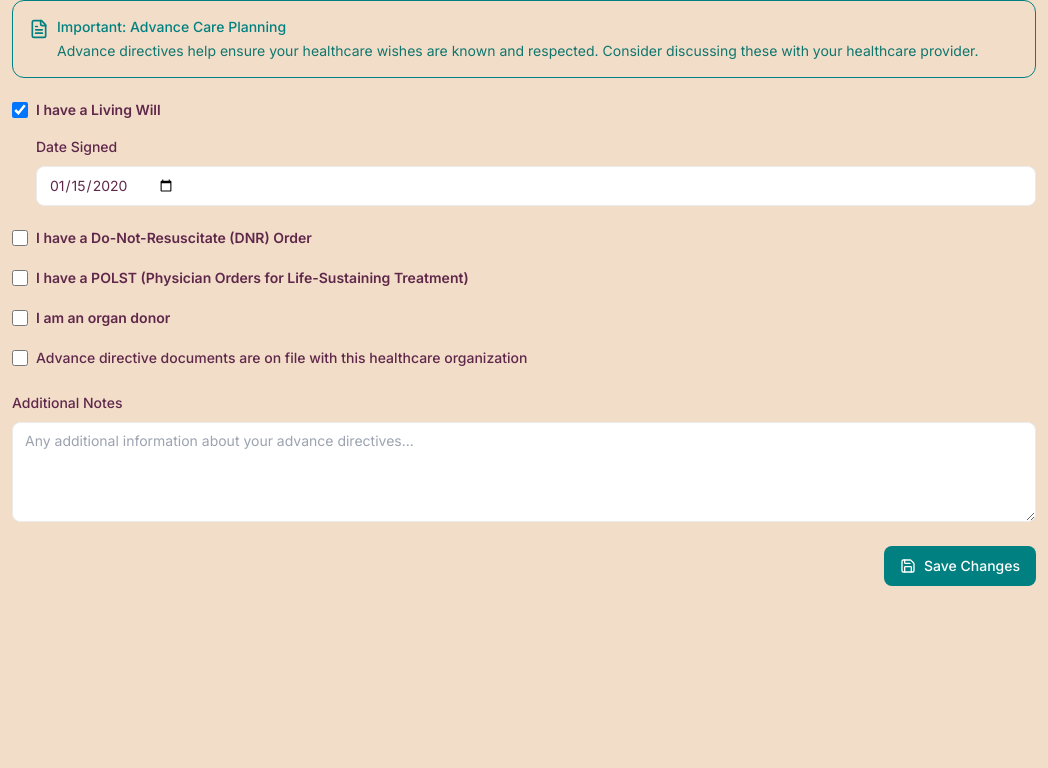
Test: AdvanceDirectivesForm › Living Will › should hide date field when living will is unchecked
Expected: the date field labelled "Date Signed" is shown, [36,166,1036,206]
Step 1. Click the checkbox labelled "I have a Living Will" → (20, 110), box [12,102,28,118]
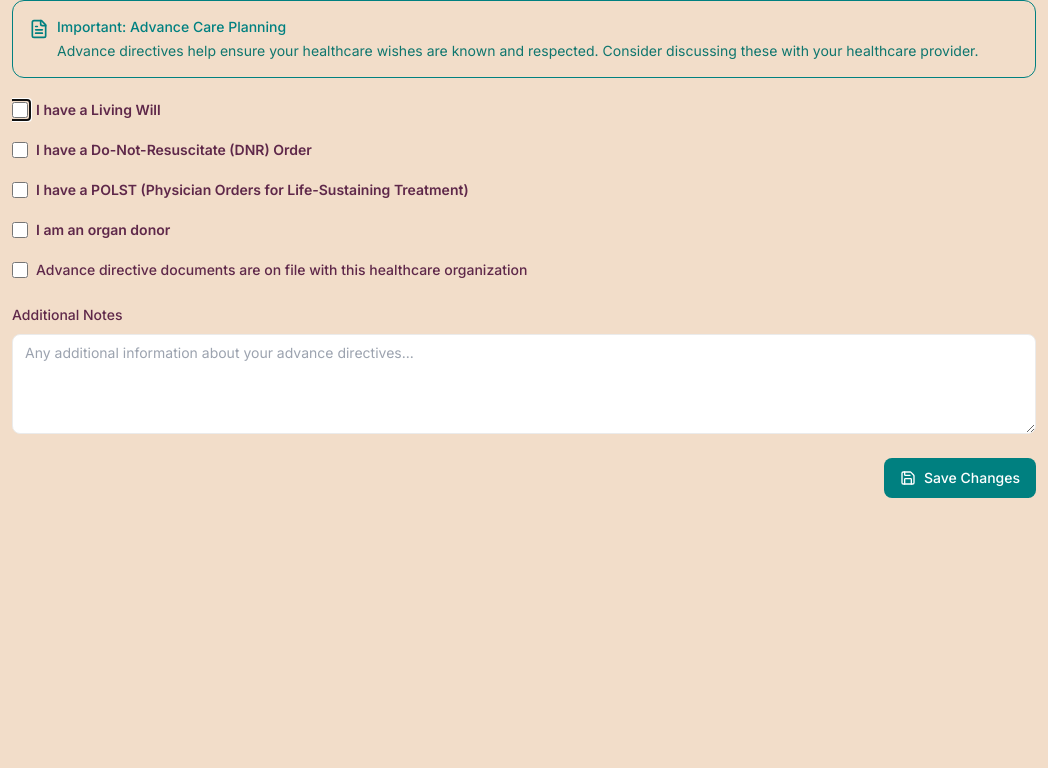
Expected: the label labelled "Date Signed" is gone
